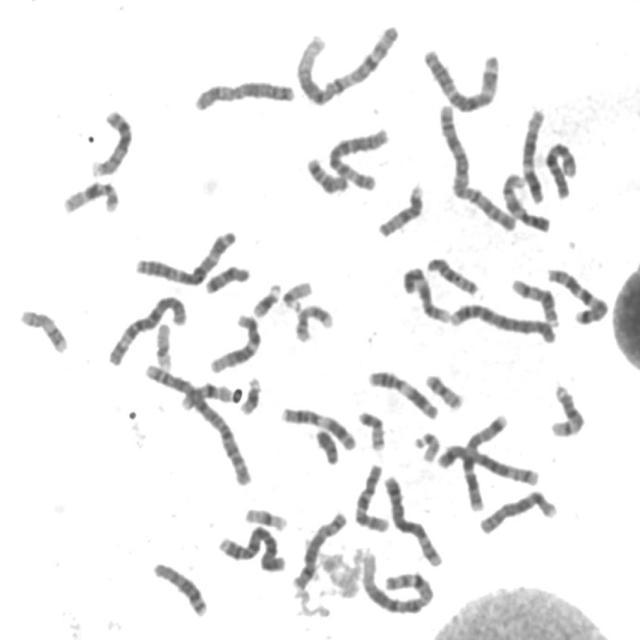A1: (290, 18, 402, 107), (356, 545, 436, 616)
A2: (138, 356, 254, 488), (434, 98, 518, 233)
A3: (130, 225, 238, 287), (418, 42, 502, 114)
B4: (445, 297, 560, 346), (212, 522, 288, 574)
B5: (380, 469, 444, 569), (433, 438, 541, 488)
C10: (349, 458, 391, 535), (539, 136, 579, 201)
C11: (363, 364, 441, 422), (276, 402, 359, 452)
C12: (206, 308, 264, 375), (517, 103, 548, 206)
C6: (104, 290, 188, 368), (323, 121, 392, 192)
C7: (458, 408, 511, 512), (542, 262, 611, 326)
C8: (288, 506, 349, 591), (474, 485, 560, 537)
C9: (497, 167, 552, 235), (398, 262, 452, 324)
D13: (148, 557, 210, 619), (86, 104, 134, 179)
D14: (507, 274, 562, 327), (546, 378, 587, 439)
D15: (373, 179, 426, 240), (422, 252, 480, 297)
E16: (58, 176, 121, 217), (176, 378, 236, 412)
E17: (15, 304, 70, 356), (290, 299, 335, 344)
E18: (301, 151, 350, 196), (200, 259, 252, 296)
F19: (240, 502, 289, 532), (150, 316, 174, 372)
F20: (420, 368, 466, 412), (353, 406, 388, 452)
G21: (248, 278, 283, 320), (235, 371, 263, 417)
G22: (277, 274, 315, 312), (410, 426, 442, 464)
X: (189, 74, 297, 113)
Y: (311, 423, 341, 467)
